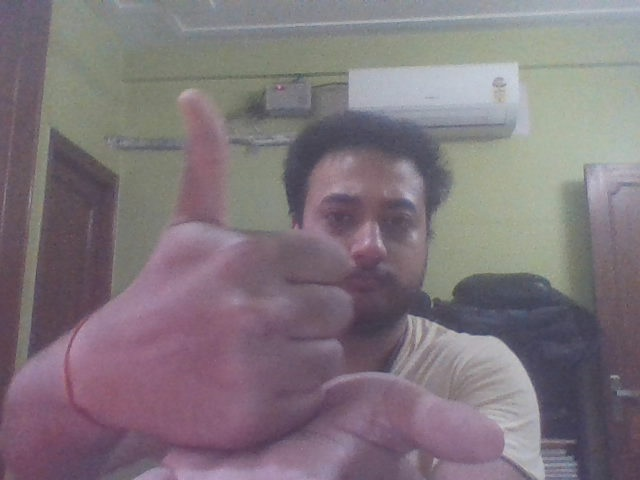Help: (49, 82, 517, 480)
